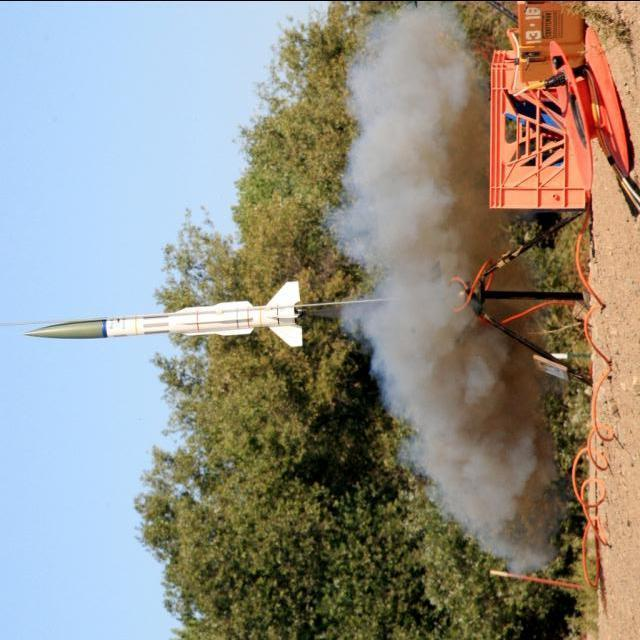missile: (26, 282, 321, 377)
